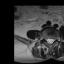CCS_normal: (49, 36, 51, 46)
LFS_normal: (53, 36, 56, 42)
LLS_normal: (51, 36, 53, 44)
RFS_normal: (44, 35, 46, 42)
RLS_normal: (46, 36, 49, 44)
